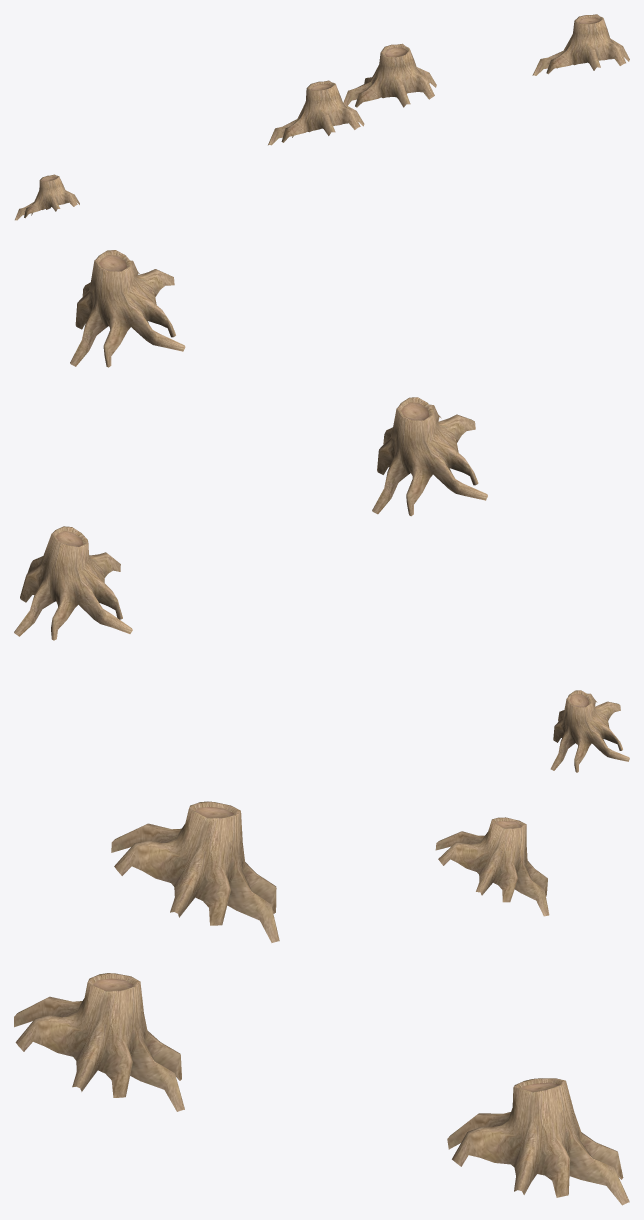
File: stump_01.glb
3 views of the same model, one above another, from view 1: azimuth 30°, elevation 25°; view 2: azimuth 150°, elevation 25°; view 3: azimuth 270°, elevation 25° (orthographic). The views are drawn at different scales.
Parts seen in each view (by area): view 1: tree_stumps.jpg__; view 2: tree_stumps.jpg__; view 3: tree_stumps.jpg__.
Boxes of the visible parts, x1=… form: tree_stumps.jpg__: x1=15, y1=14, x2=629, y2=220; tree_stumps.jpg__: x1=14, y1=250, x2=629, y2=772; tree_stumps.jpg__: x1=14, y1=801, x2=629, y2=1205.
Bounding box in the file's own units: 43.56 × 14.61 × 24.41.
Materials: 1 (1 with a texture image).
